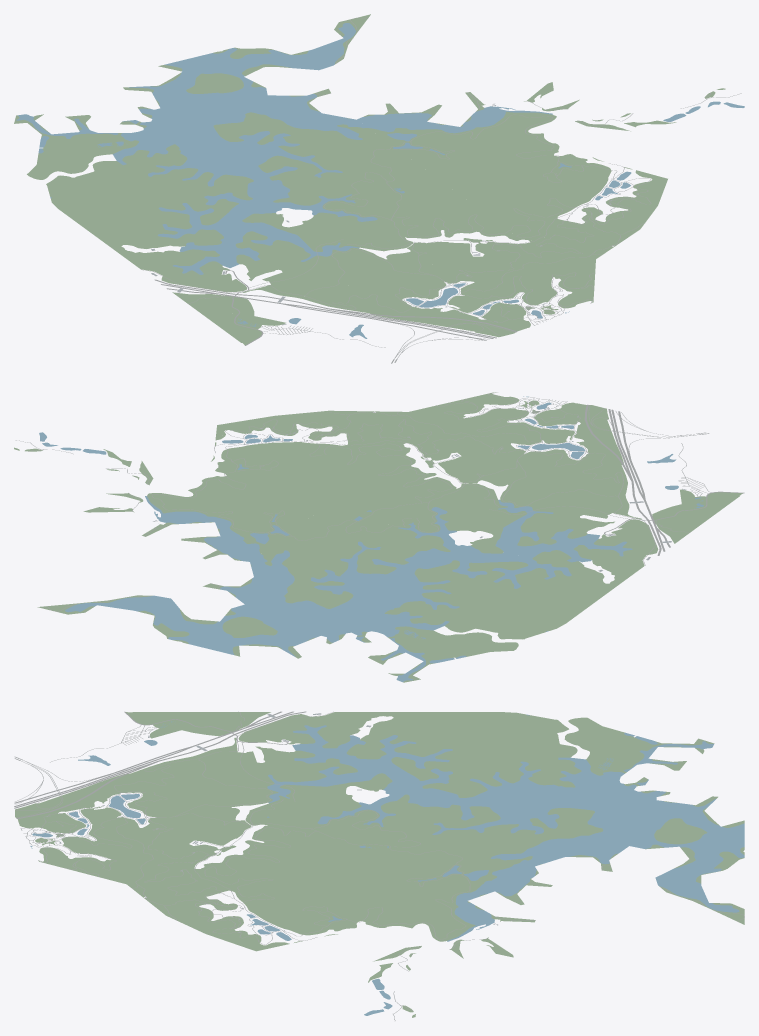
The model's file is overview-known--4_8.glb.
3 views of the same model, one above another, from view 1: azimuth 30°, elevation 25°; view 2: azimuth 150°, elevation 25°; view 3: azimuth 270°, elevation 25° (orthographic). The views are drawn at different scales.
Size of the model in its own units: 4000 by 1.11 by 3986.
